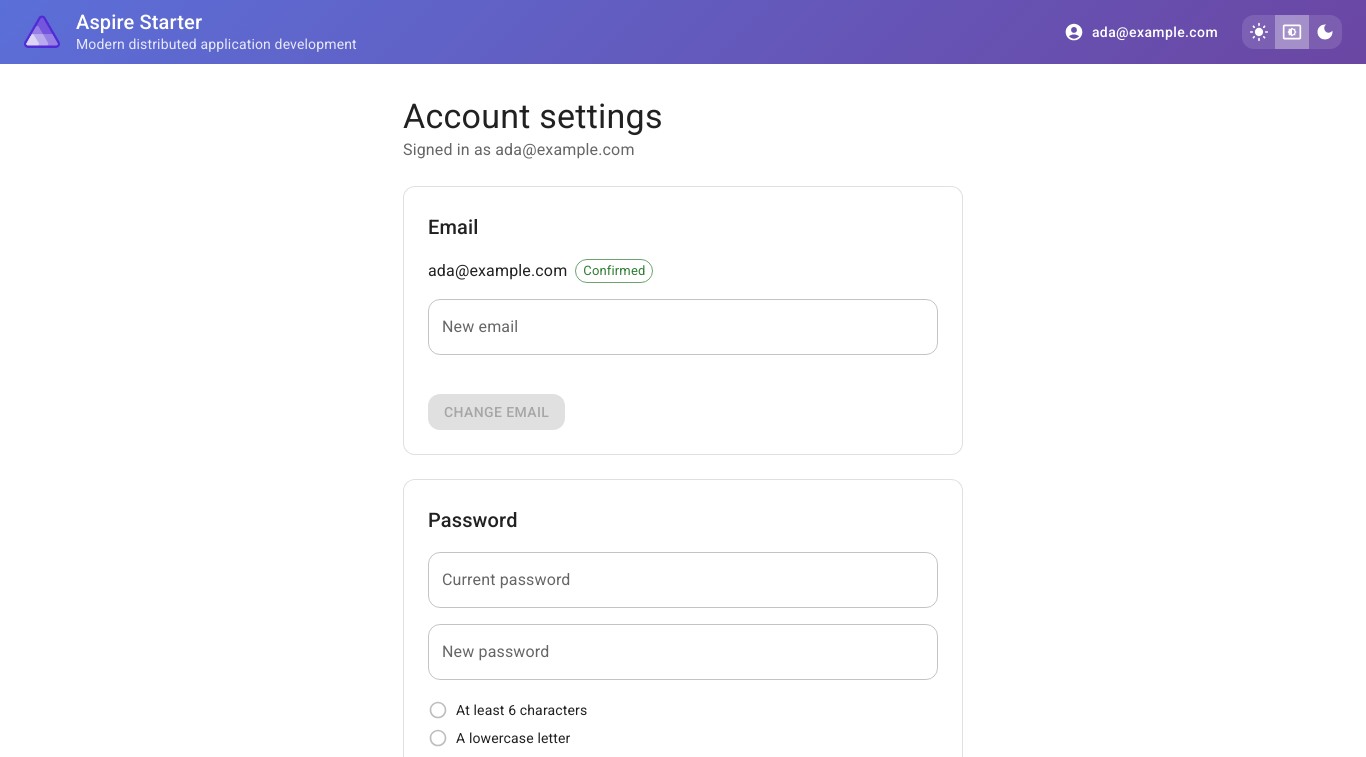
Test: EmailSection › shows the server answer (0)
The width and height of the screenshot is (1366, 757).
In the field labelled "New email": point(683, 327) [428,299,938,355], type "ada@new.example"
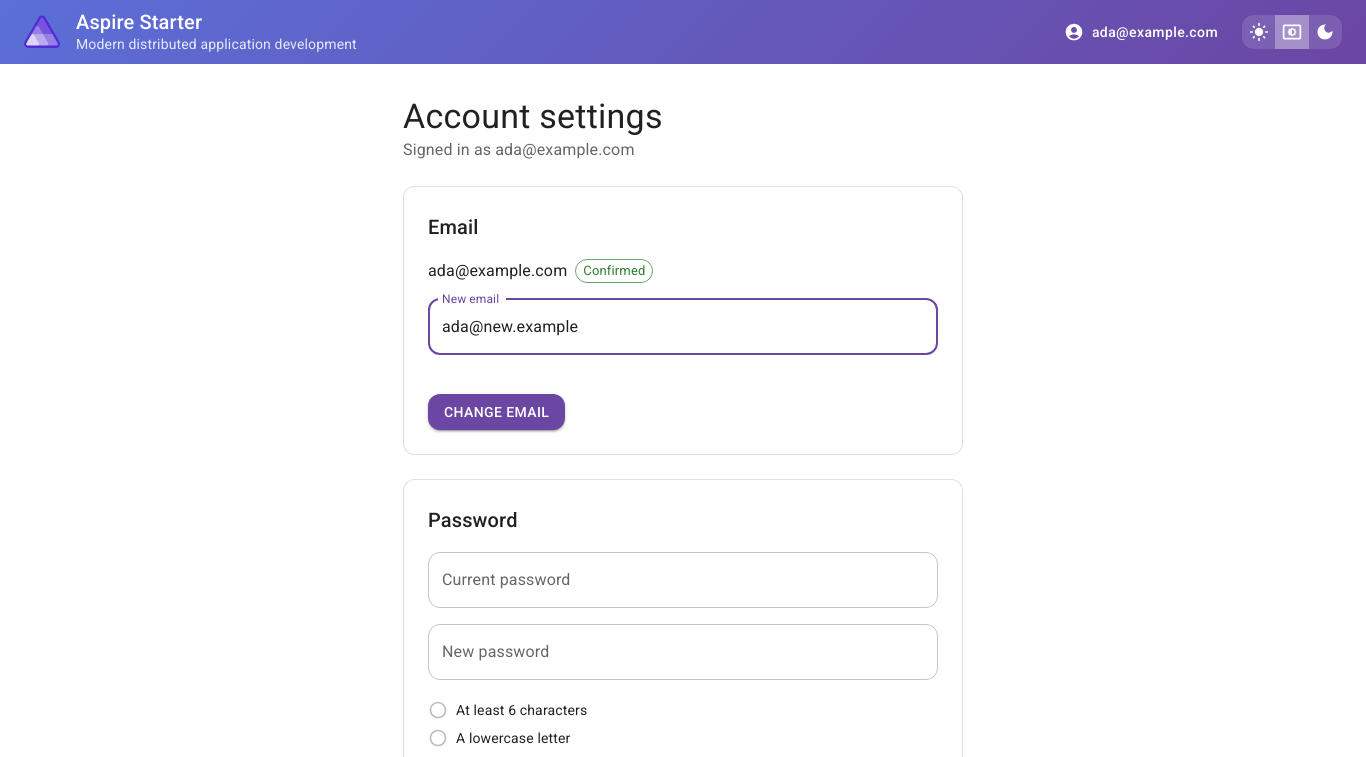
Click the button "Change email": point(497, 412) [428,394,565,430]
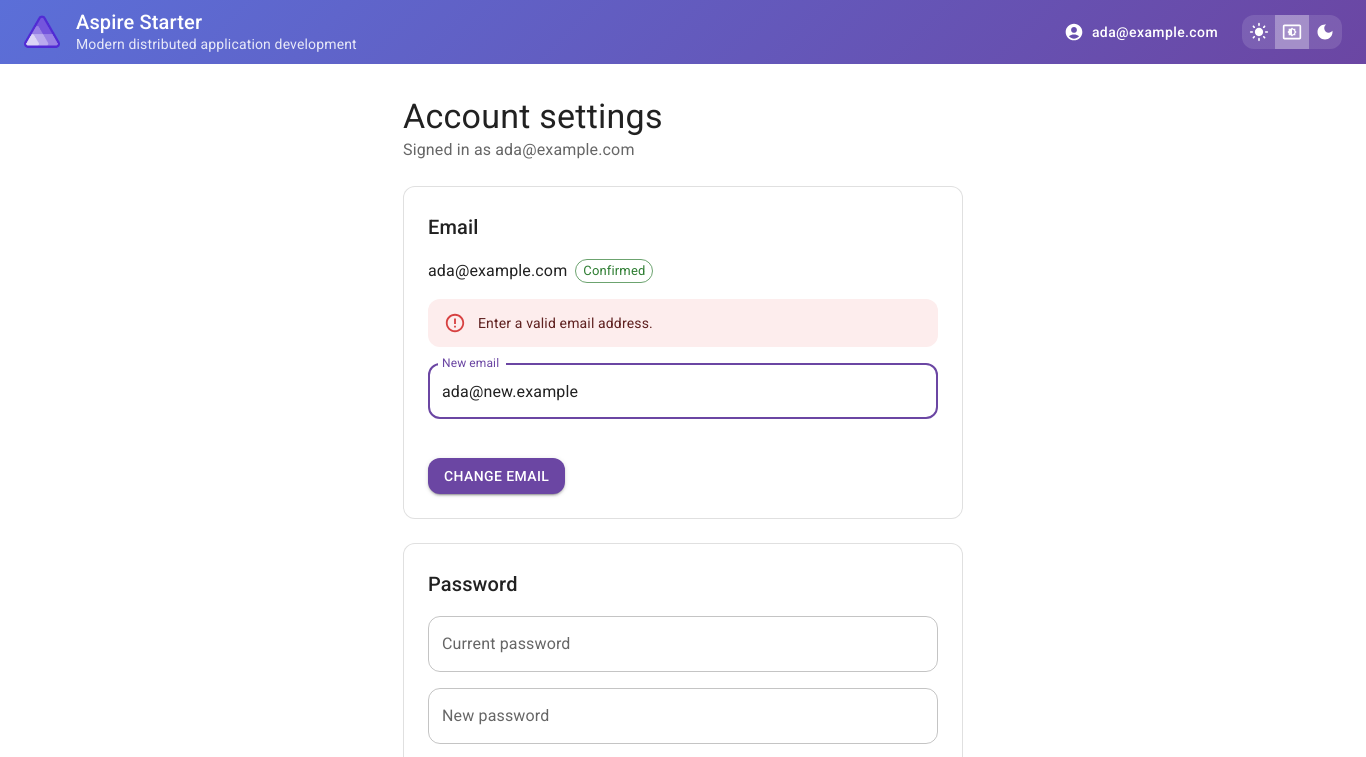
Check: the message reads "Enter a valid email address.", box [478,315,653,331]
